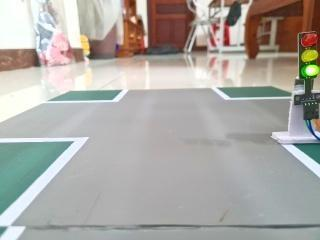green: (287, 24, 320, 86)
